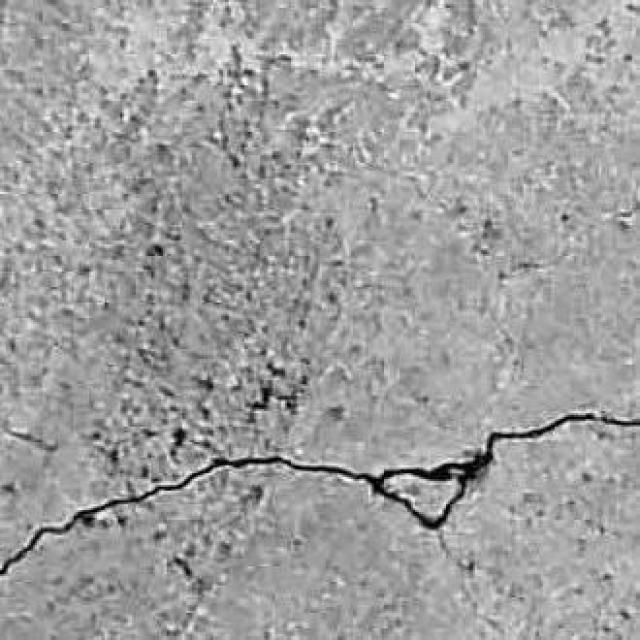crack: (0, 412, 639, 575)
